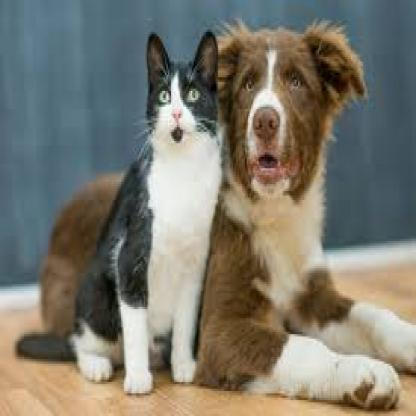cat: (133, 27, 239, 190)
